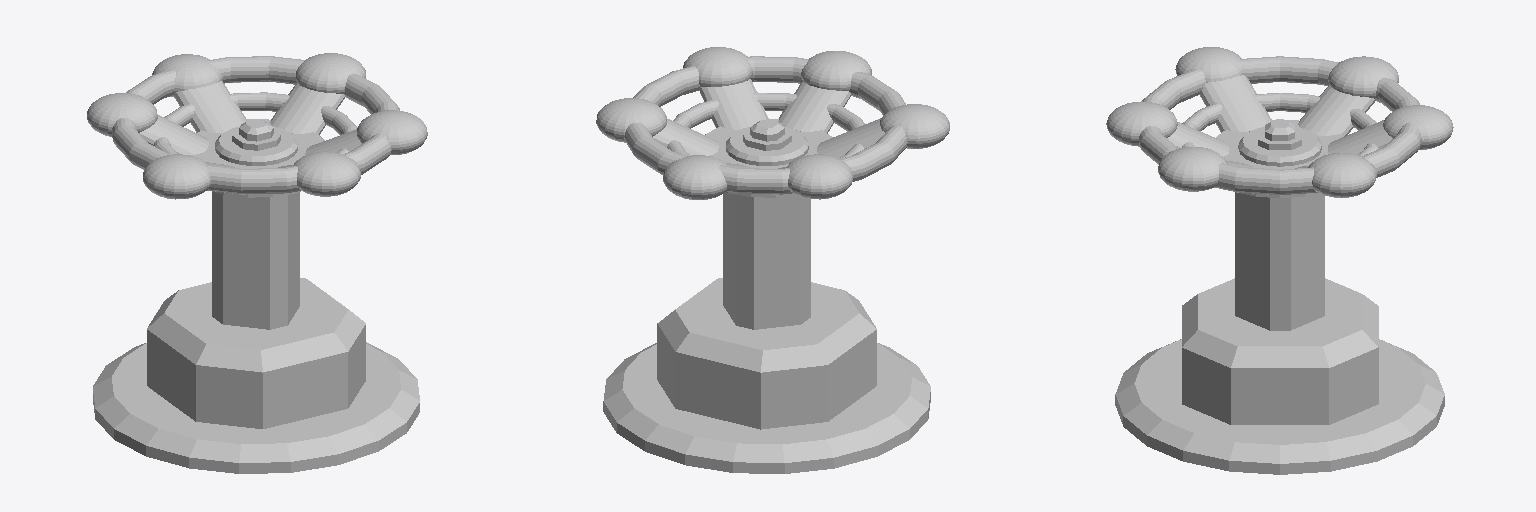
Rendered from valve.obj.
3 renders of one model, left to right at view 1: azimuth 30°, elevation 25°; view 2: azimuth 150°, elevation 25°; view 3: azimuth 270°, elevation 25°, orthographic.
Visible parts, largest first — view 1: pCylinder9; view 2: pCylinder9; view 3: pCylinder9.
Boxes of the visible parts, box(x1,y1,x2,y2) form: pCylinder9: box(87, 53, 427, 473); pCylinder9: box(596, 47, 949, 473); pCylinder9: box(1106, 47, 1453, 474).
Size of the model in its own units: 1.13 by 1.12 by 1.18.